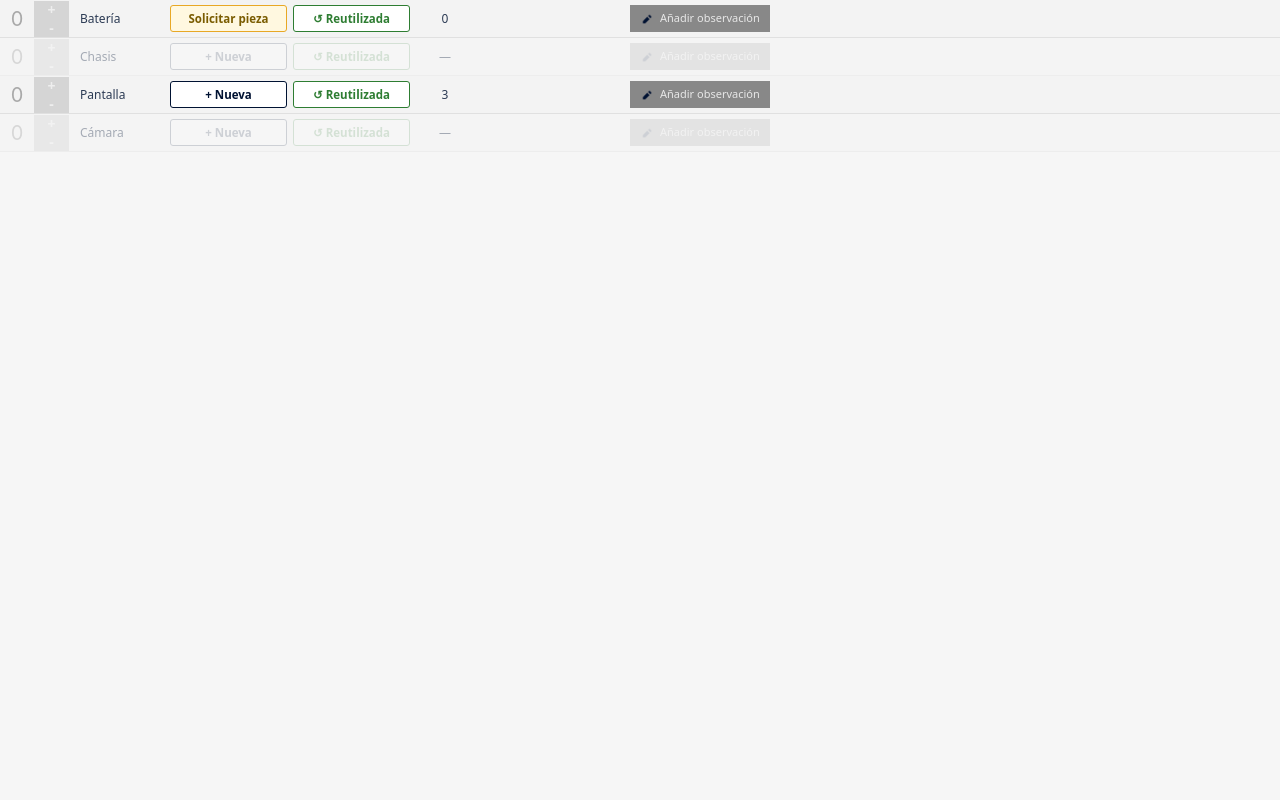
Test case: 0.9.19 · la elección en la celda del SKU (spec §2) › ningún SKU con stock: «Solicitar pieza» abre el diálogo y la fila queda «Solicitada»; cancelar no cambia nada
Click the button with aria-label "Solicitar pieza Batería" at (228, 18), box [170, 5, 287, 32]
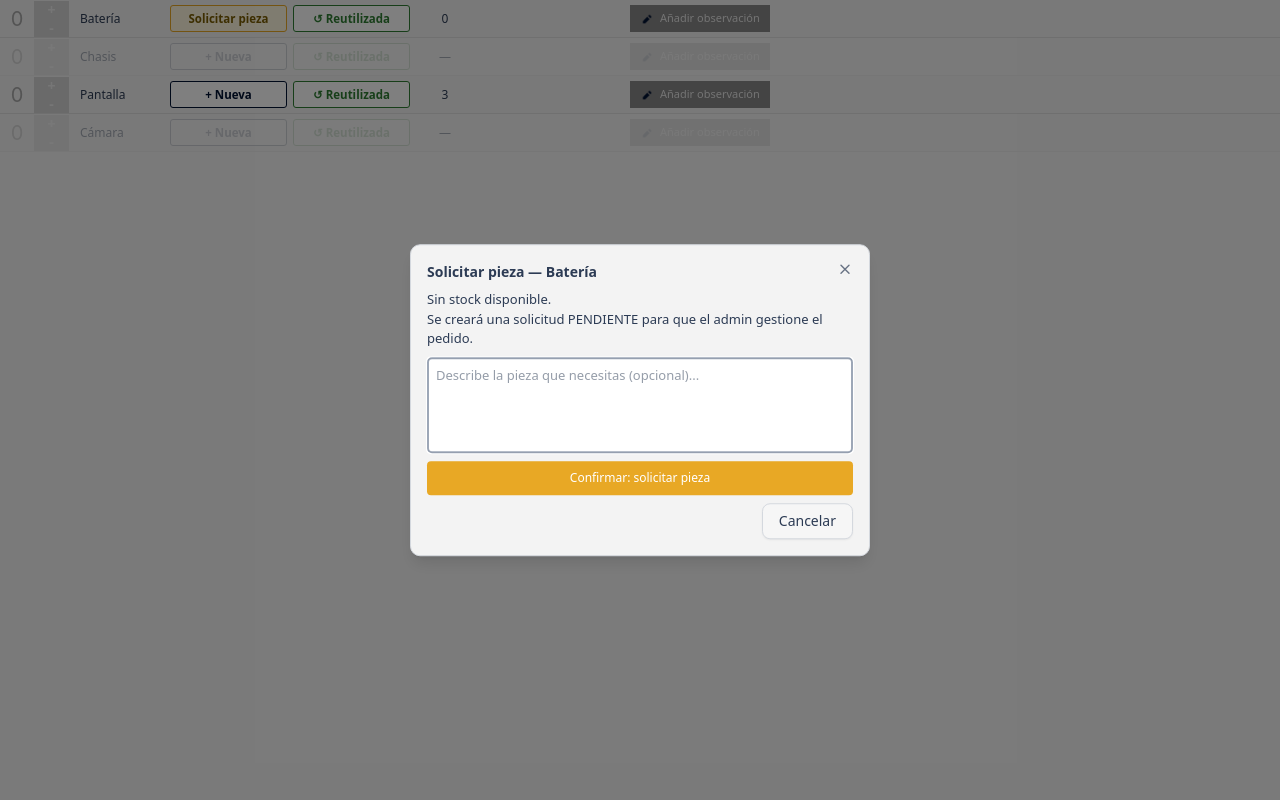
Click the button "Cancelar" at (807, 521), box [762, 503, 853, 539]
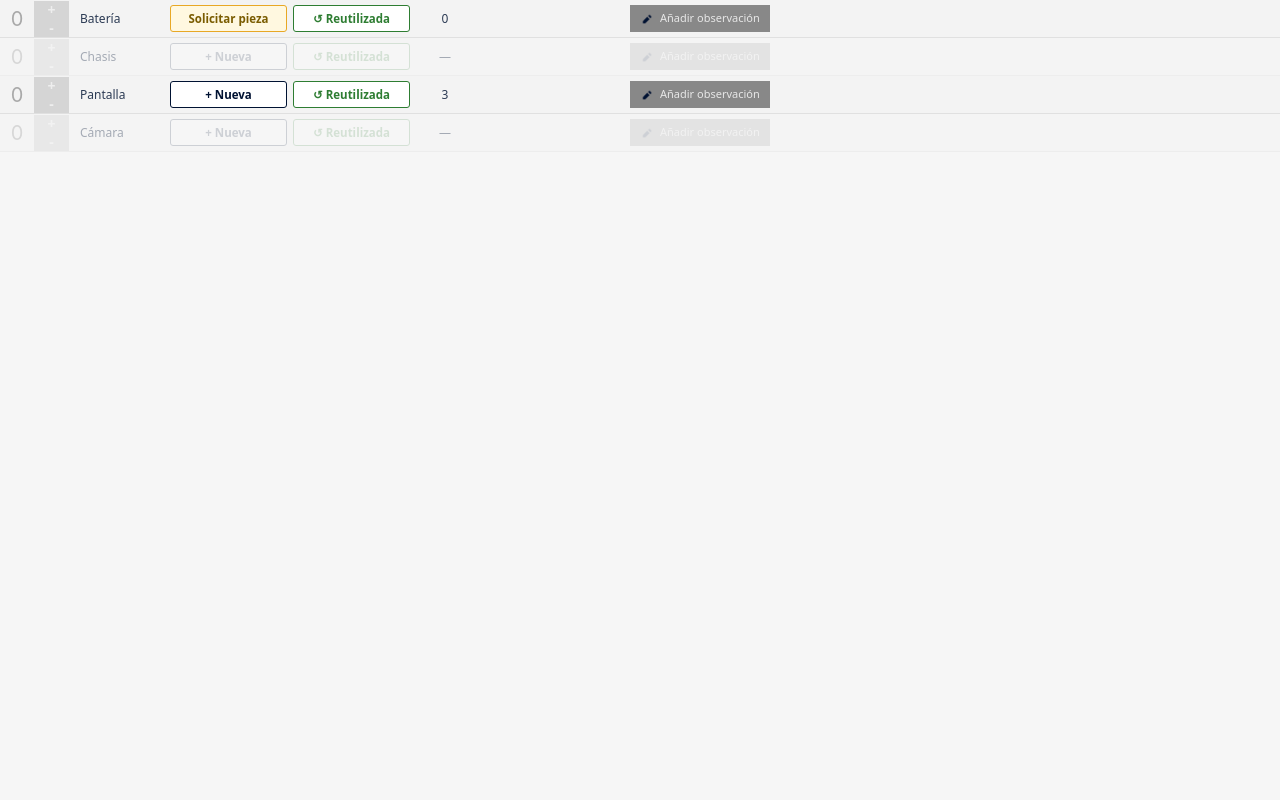
Click the button with aria-label "Solicitar pieza Batería" at (228, 18), box [170, 5, 287, 32]
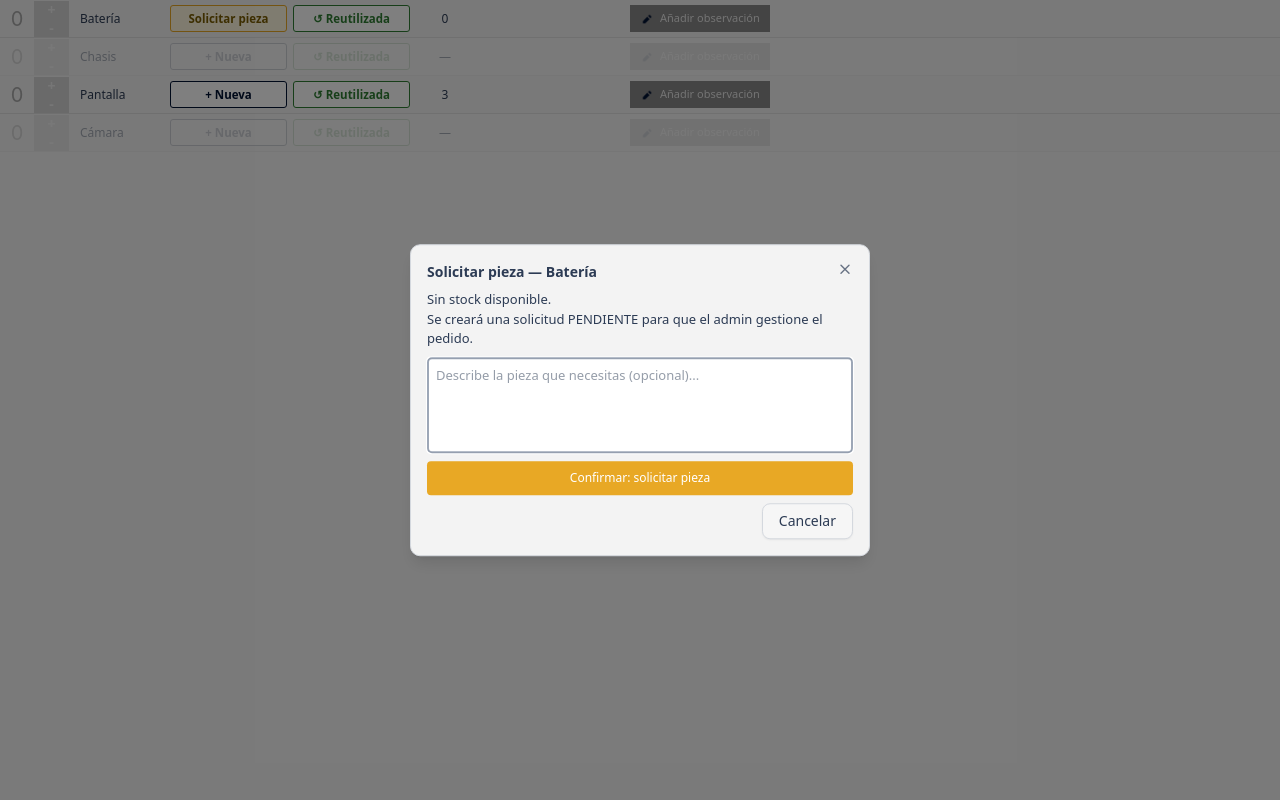
Click the button "Confirmar: solicitar pieza" at (640, 478), box [427, 461, 853, 495]
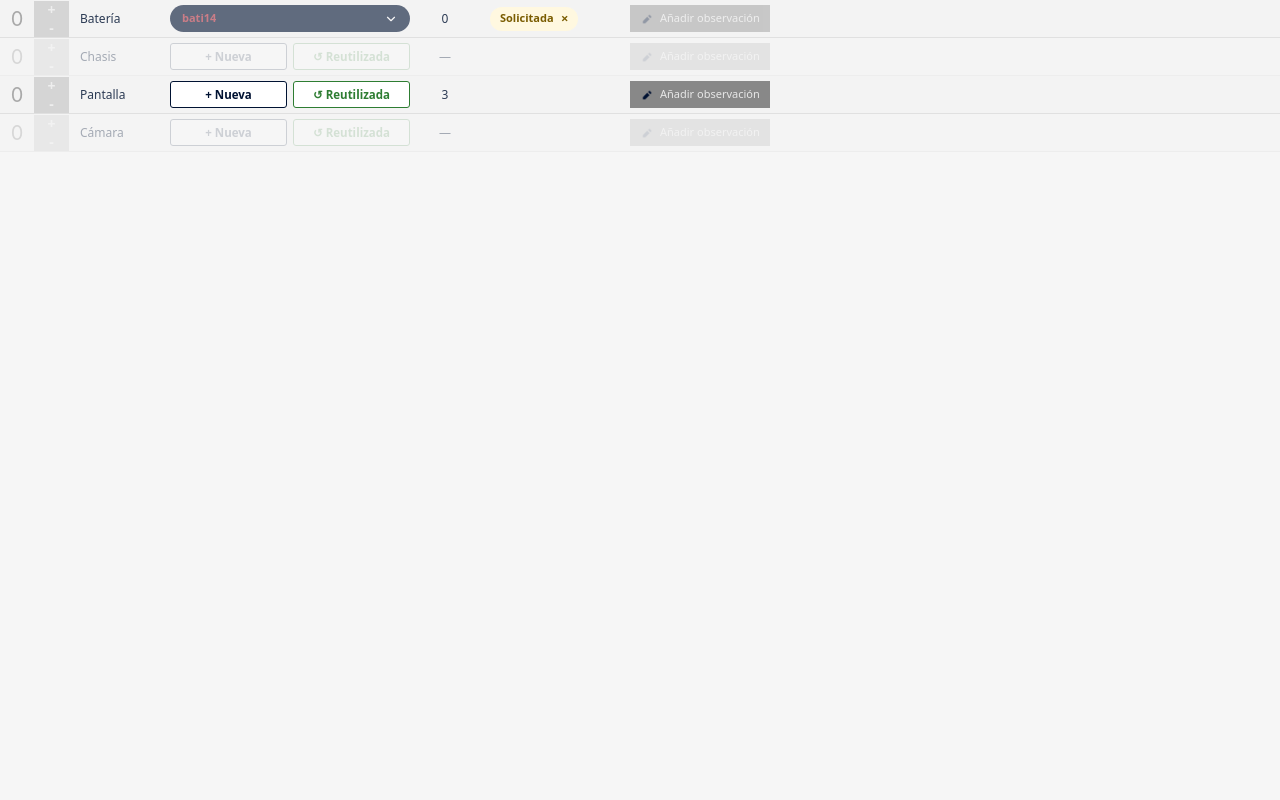
Expected: the text with test id "contador-bat" reads "0", [11, 6, 23, 30]
Expected: the element with test id "marca-bat" shows "Solicitada", [500, 10, 554, 25]
